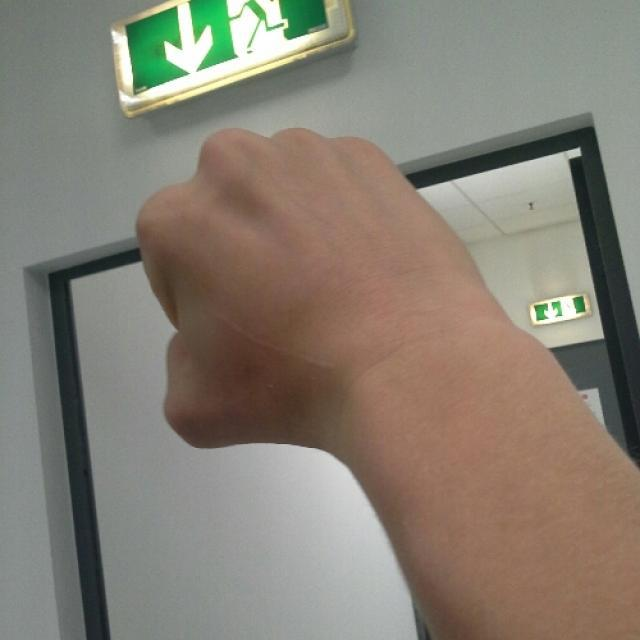fist: (136, 124, 418, 450)
